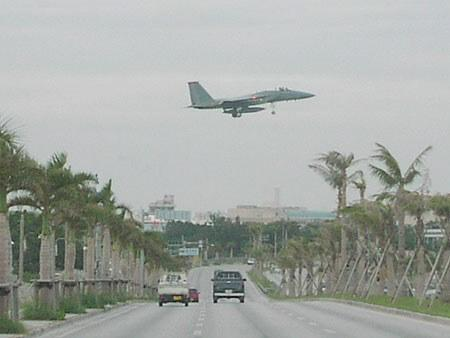airplane: (184, 78, 315, 117)
boat: (157, 273, 189, 306)
bus: (186, 265, 230, 303), (167, 268, 209, 304), (211, 269, 245, 303), (157, 272, 189, 306), (161, 273, 188, 286)
car: (188, 265, 240, 306), (167, 272, 222, 307), (211, 269, 245, 303), (157, 273, 190, 306), (186, 266, 212, 301), (163, 271, 198, 295), (187, 282, 222, 302), (213, 284, 244, 304), (162, 287, 196, 304), (185, 276, 201, 304), (159, 273, 188, 286), (213, 270, 245, 281), (181, 287, 202, 303), (164, 272, 185, 282), (192, 288, 204, 302), (266, 263, 281, 273), (189, 288, 199, 302), (246, 256, 257, 265)
cow: (368, 142, 433, 194)
kite: (186, 79, 316, 117)
person: (157, 274, 189, 306), (189, 288, 200, 302), (248, 93, 259, 105)
traffic light: (206, 242, 216, 258)
truck: (185, 267, 240, 302), (167, 268, 209, 304), (211, 269, 245, 303), (157, 273, 190, 306), (186, 266, 214, 300), (161, 273, 188, 286), (188, 288, 199, 302), (246, 256, 257, 265)
